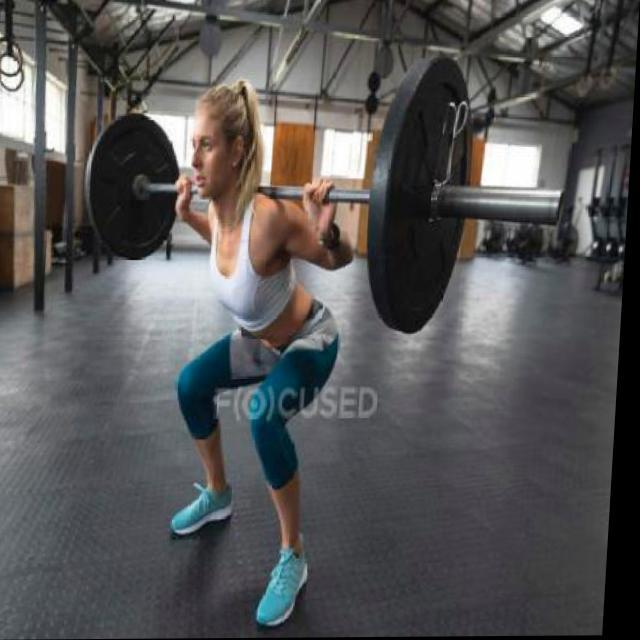barbell: (361, 48, 583, 342)
